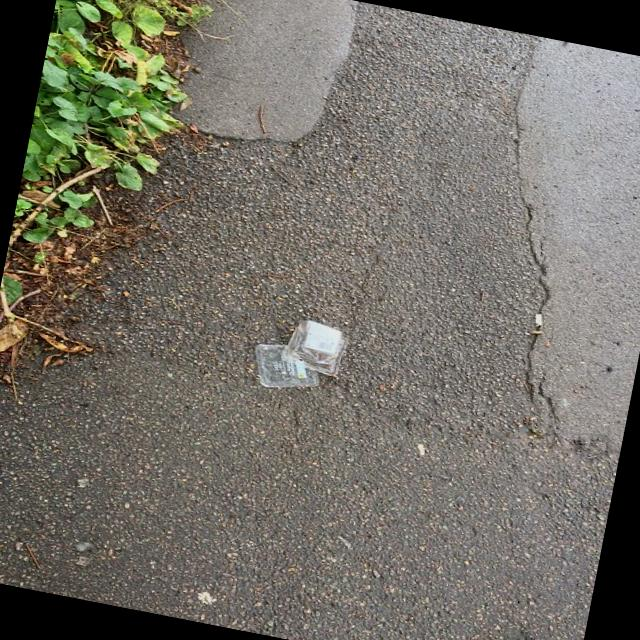Trash: (244, 308, 350, 404)
